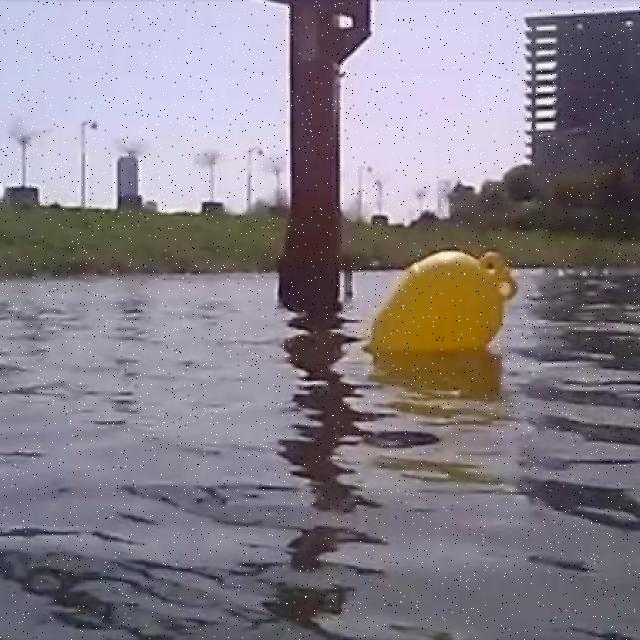buoy: (371, 247, 512, 357)
